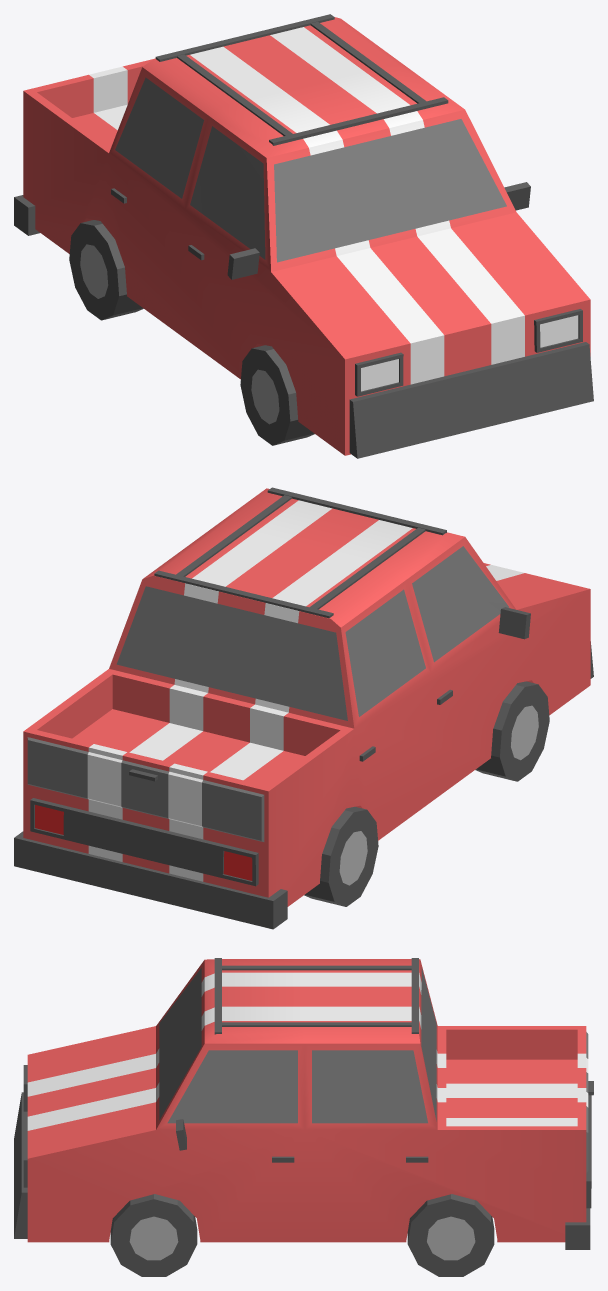
File: SM_Car_10_01.FBX
3 renders of one model, top to bottom at view 1: azimuth 30°, elevation 25°; view 2: azimuth 150°, elevation 25°; view 3: azimuth 270°, elevation 25°, orthographic. The views are drawn at different scales.
Visible parts, largest first — view 1: SM_Car_10_01, SM_Wheel_LFront002, SM_Wheel_RBack001; view 2: SM_Car_10_01, SM_Wheel_LFront002, SM_Wheel_RBack001; view 3: SM_Car_10_01, SM_Wheel_LFront001, SM_Wheel_LBack001.
Boxes of the visible parts, x1=… form: SM_Car_10_01: x1=14, y1=14, x2=593, y2=458; SM_Wheel_LFront002: x1=240, y1=345, x2=314, y2=445; SM_Wheel_RBack001: x1=69, y1=220, x2=143, y2=320; SM_Car_10_01: x1=14, y1=487, x2=593, y2=929; SM_Wheel_LFront002: x1=475, y1=681, x2=549, y2=781; SM_Wheel_RBack001: x1=304, y1=806, x2=378, y2=906; SM_Car_10_01: x1=14, y1=958, x2=593, y2=1249; SM_Wheel_LFront001: x1=110, y1=1194, x2=197, y2=1276; SM_Wheel_LBack001: x1=407, y1=1194, x2=494, y2=1276.
Bounding box in the file's own units: 1.7 × 1.43 × 3.31.
1 material, 1 textured.
